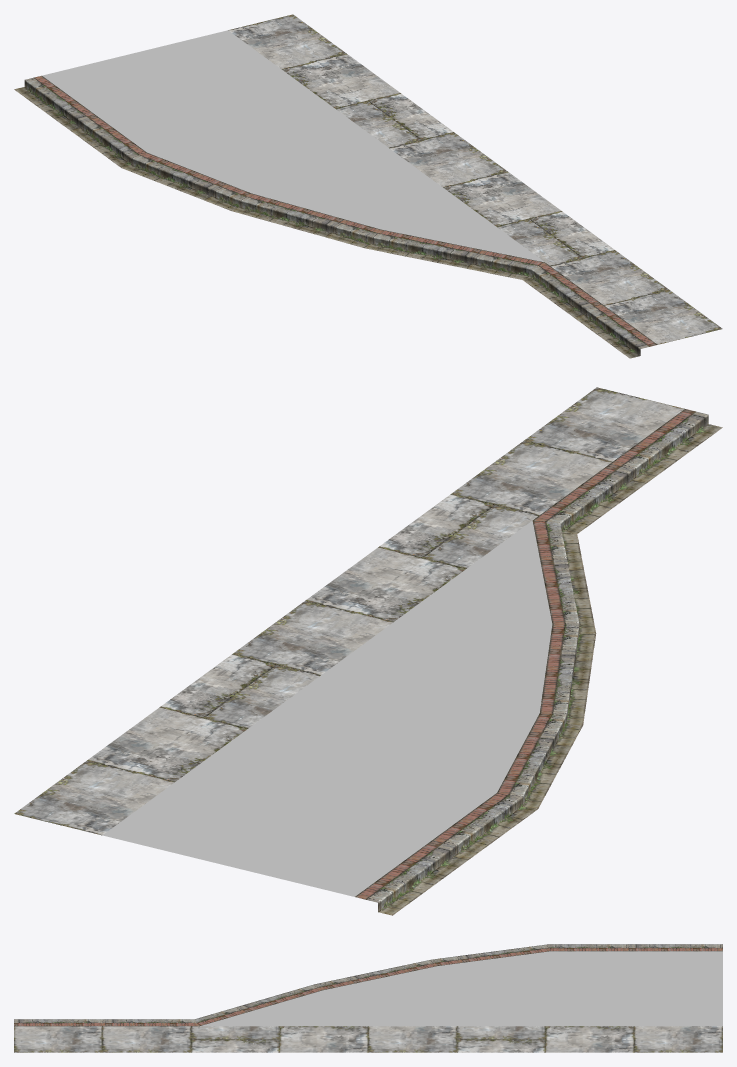
Rendered from Road-TransitionSidewalkWhite.fbx.
3 renders of one model, top to bottom at view 1: azimuth 30°, elevation 25°; view 2: azimuth 150°, elevation 25°; view 3: azimuth 270°, elevation 25°, orthographic. The views are drawn at different scales.
Parts seen in each view (by area): view 1: Road-TransitionSidewalkWhite; view 2: Road-TransitionSidewalkWhite; view 3: Road-TransitionSidewalkWhite.
Part boxes in pixels (x1=…): Road-TransitionSidewalkWhite: x1=14, y1=14, x2=722, y2=358; Road-TransitionSidewalkWhite: x1=14, y1=387, x2=722, y2=915; Road-TransitionSidewalkWhite: x1=14, y1=944, x2=722, y2=1052.
Bounding box in the file's own units: 1050 × 25 × 2800.
